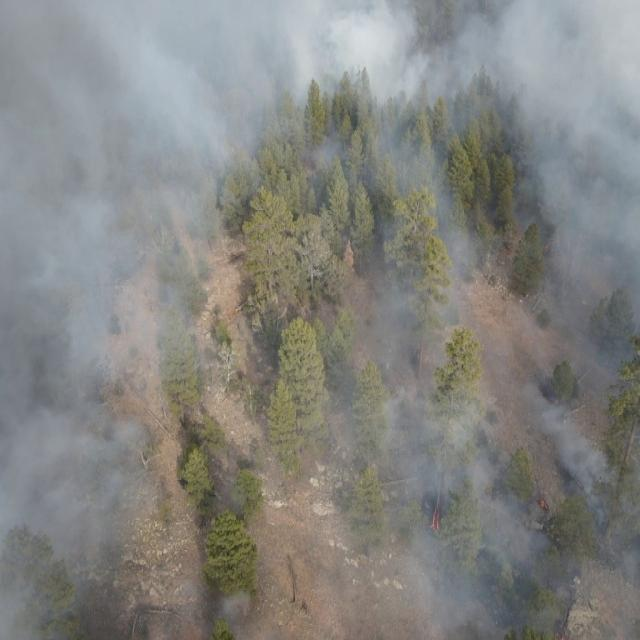fire: (426, 500, 452, 540), (536, 493, 553, 515)
smoke: (1, 0, 640, 640)
